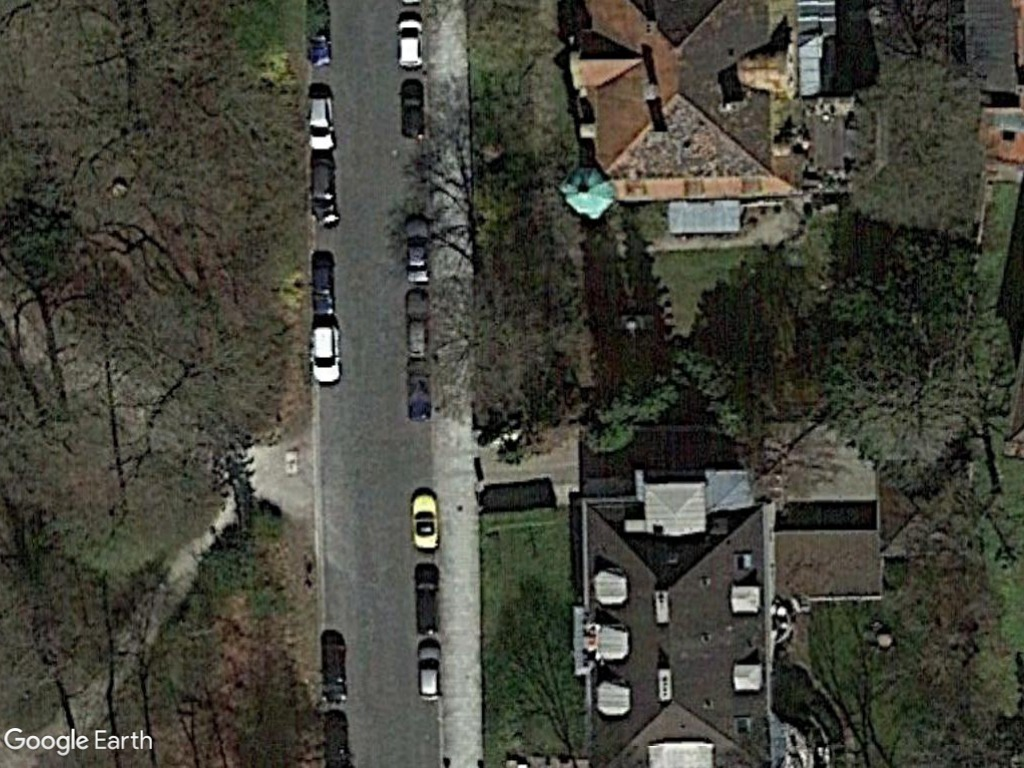car: (307, 323, 345, 388), (408, 485, 443, 554), (402, 214, 433, 288), (412, 639, 447, 704), (304, 88, 338, 153), (395, 14, 426, 72)
